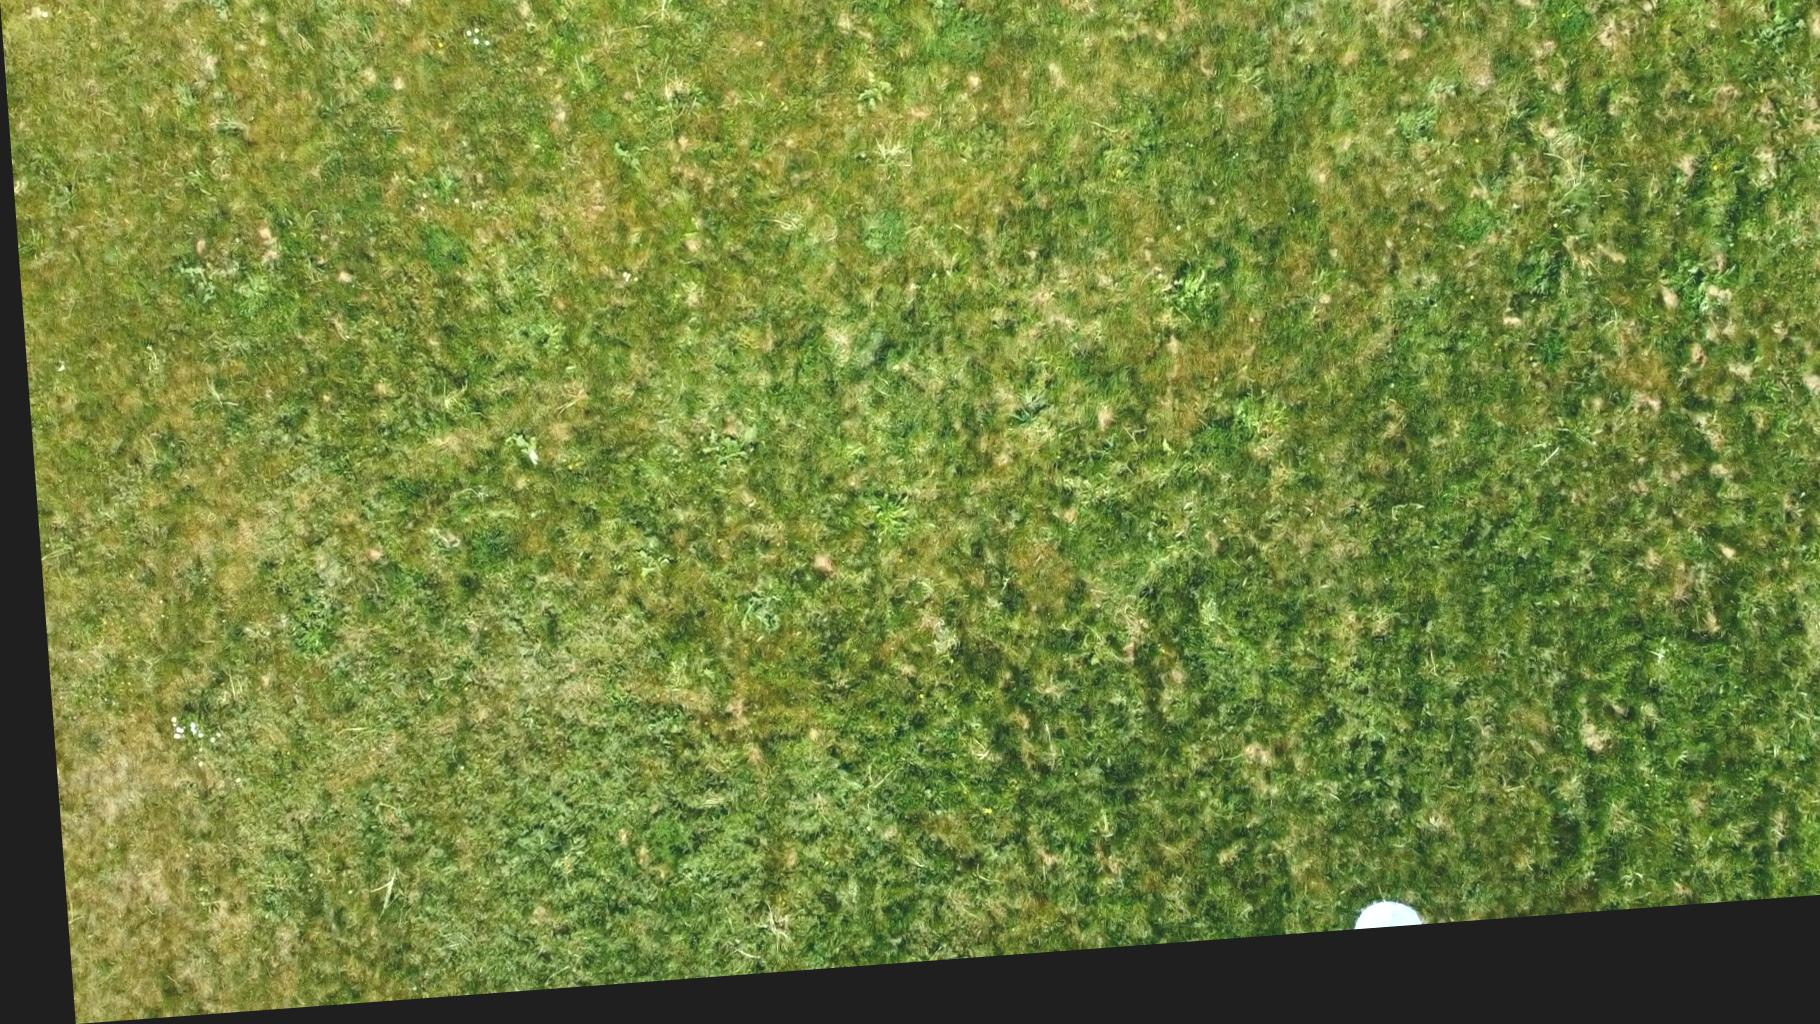Blue: (1331, 918, 1410, 950)
